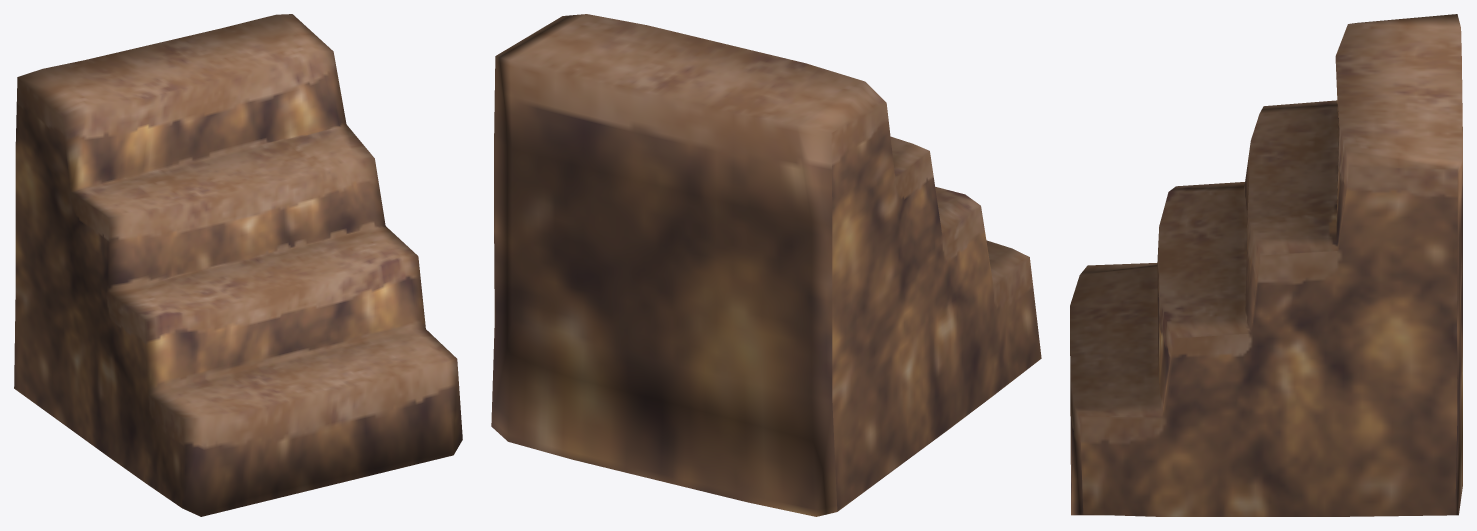
The model's file is EP1_stairs_dirt01.fbx.
3 views of the same model, side by side, from view 1: azimuth 30°, elevation 25°; view 2: azimuth 150°, elevation 25°; view 3: azimuth 270°, elevation 25° (orthographic). The views are drawn at different scales.
Parts seen in each view (by area): view 1: stairs_dirt01_geo; view 2: stairs_dirt01_geo; view 3: stairs_dirt01_geo.
Boxes of the visible parts, x1=… form: stairs_dirt01_geo: x1=14, y1=14, x2=462, y2=516; stairs_dirt01_geo: x1=491, y1=14, x2=1041, y2=516; stairs_dirt01_geo: x1=1070, y1=14, x2=1462, y2=516.
Size of the model in its own units: 1.03 by 1.11 by 1.1.
